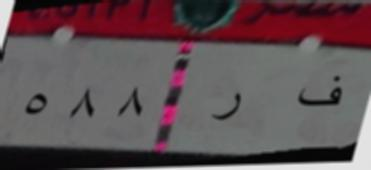5: (21, 87, 52, 122)
8: (62, 87, 98, 123), (115, 86, 146, 120)
faa: (294, 70, 344, 114)
raa: (205, 86, 248, 128)
